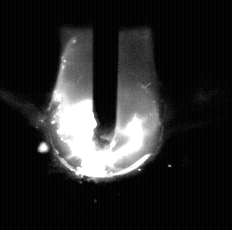arame: (93, 0, 119, 149)
poca: (47, 0, 166, 230)
